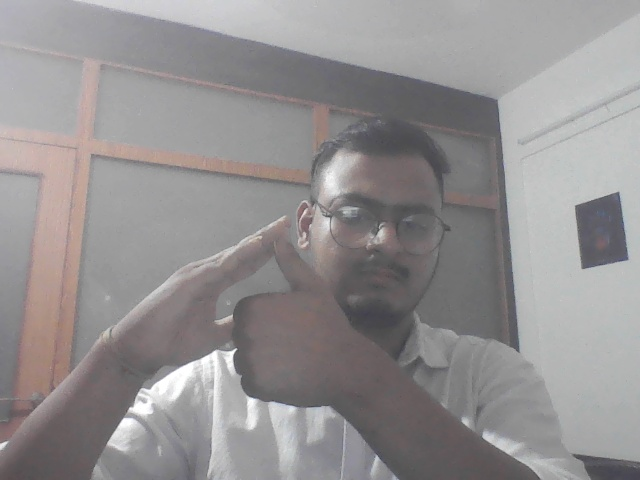I Feel You: (135, 209, 357, 414)
